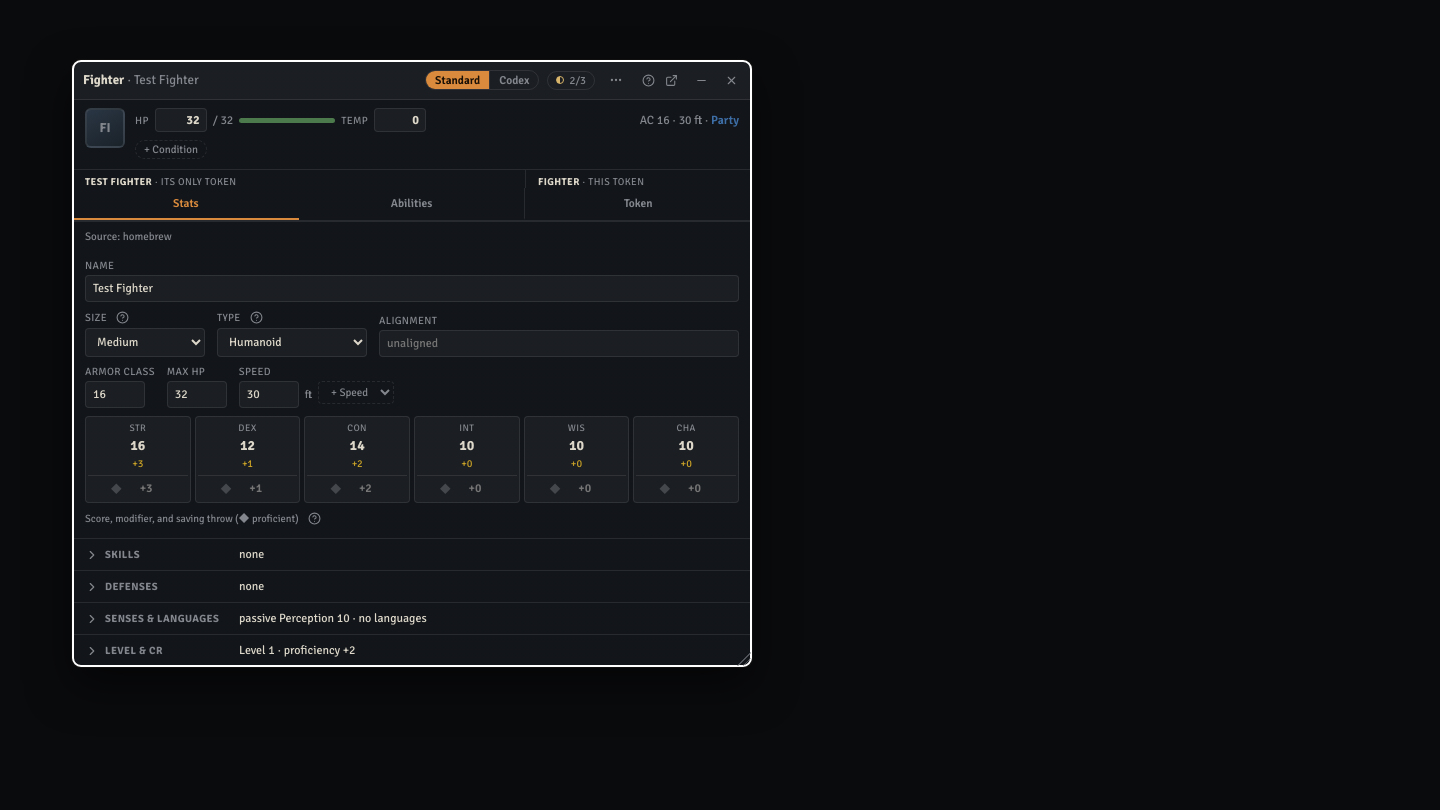
Test: a popped-out sheet › says so when the browser blocks the popup, and stays in the page
Step 1. Click the button named "Pop out" → click(670, 80), box [659,69,681,91]
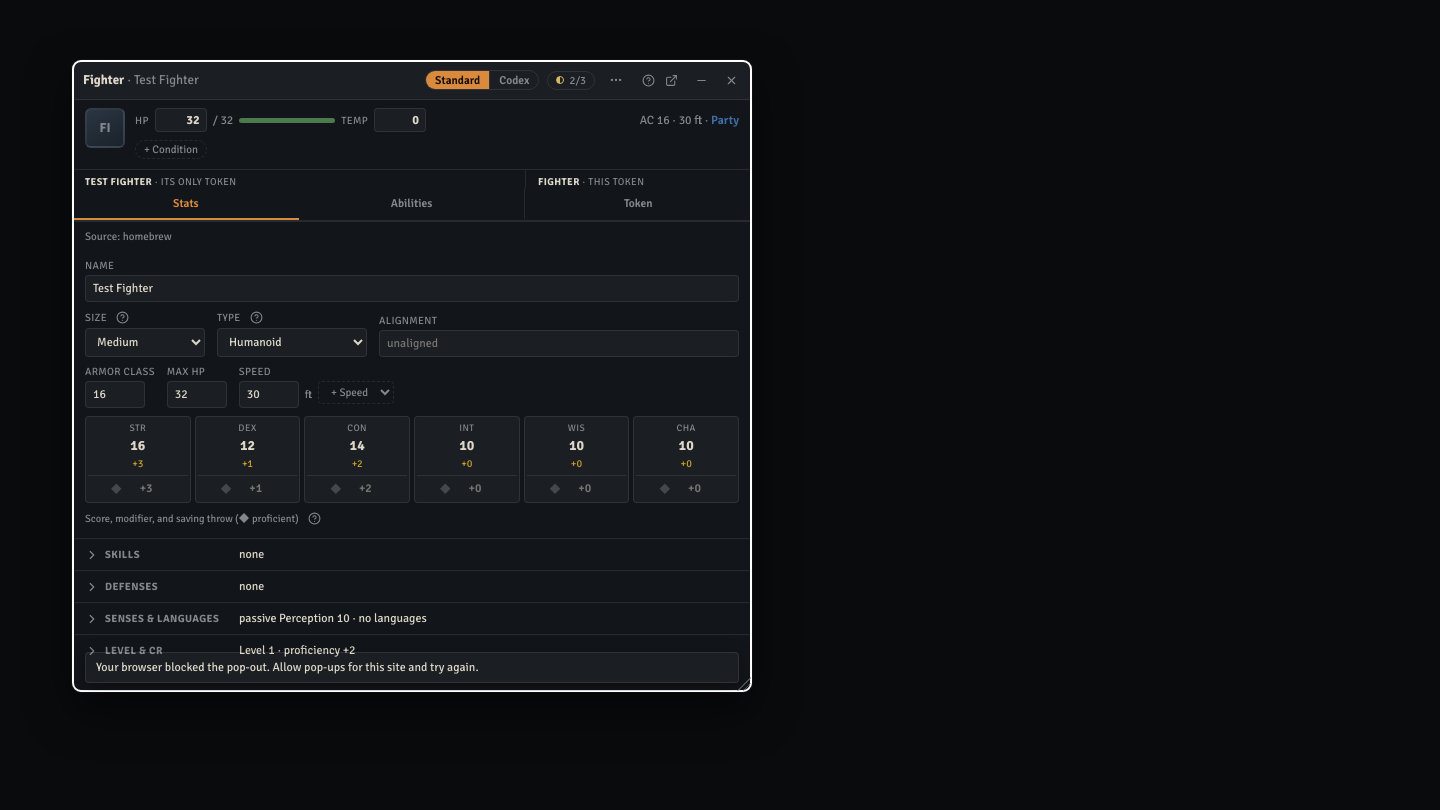
Check: the message shows "Your browser blocked the pop-out", box [96,660,478,675]
